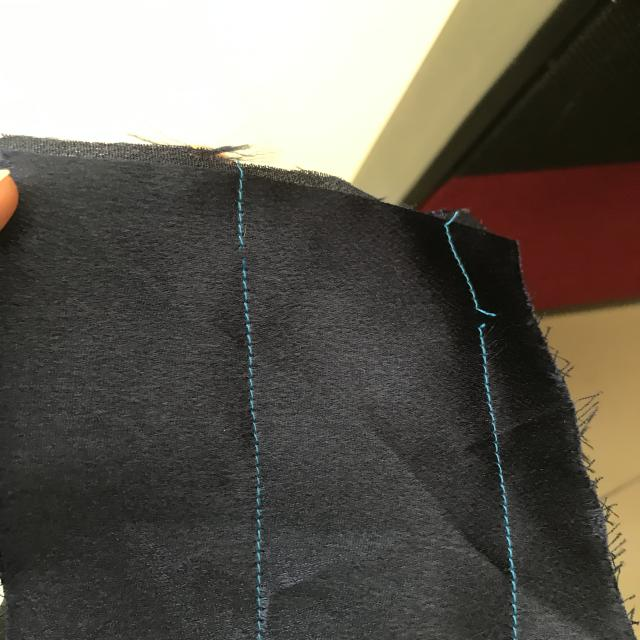broken: (459, 297, 512, 342), (228, 233, 258, 268)
good: (234, 319, 275, 536), (477, 375, 532, 532)
